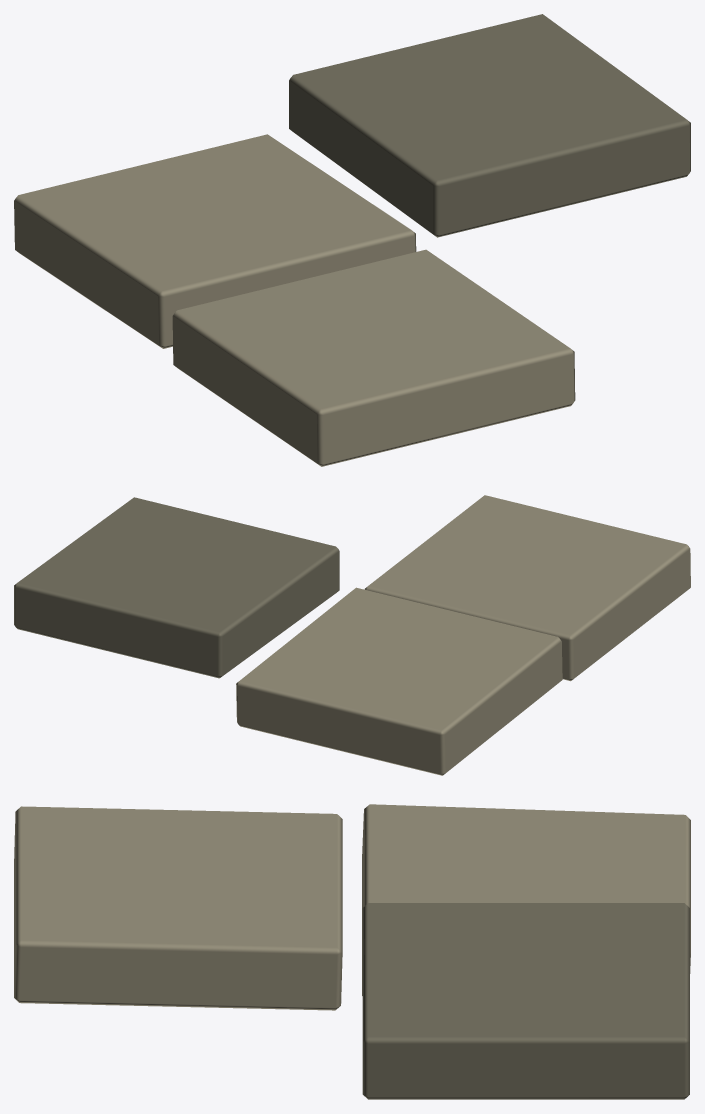
File: stone-halls-flag-broken.6e900c19.glb
3 renders of one model, top to bottom at view 1: azimuth 30°, elevation 25°; view 2: azimuth 150°, elevation 25°; view 3: azimuth 270°, elevation 25°, orthographic. The views are drawn at different scales.
Visible parts, largest first — view 1: body; view 2: body; view 3: body.
Part boxes in pixels (x1,y1,x2,y2): body: (14, 14, 690, 466); body: (14, 495, 690, 775); body: (14, 804, 690, 1099).
Size of the model in its own units: 0.97 by 0.1934 by 0.9724.
